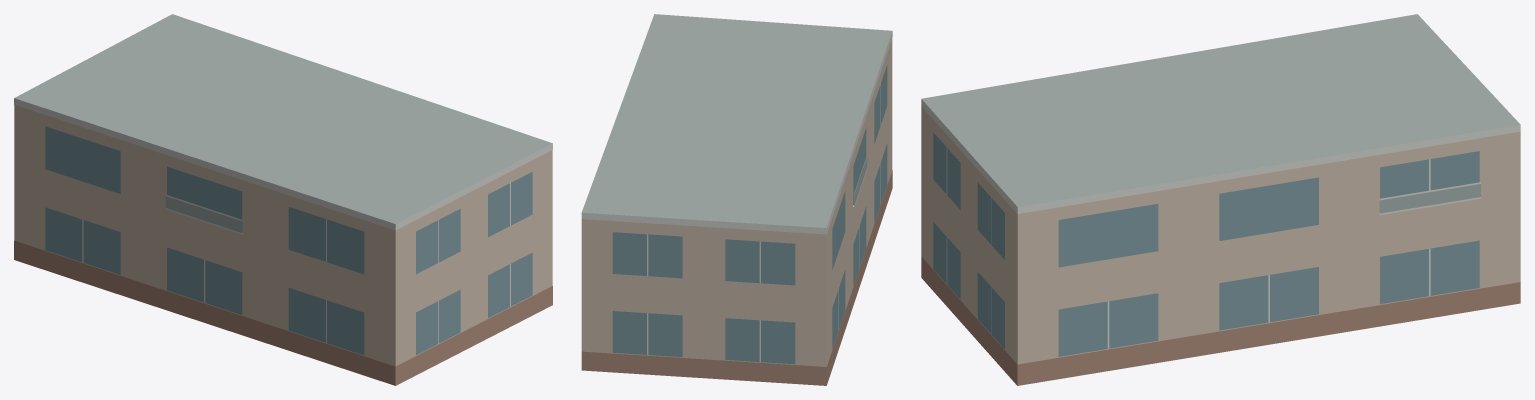
Rendered from survey-upis-32941652.glb.
3 views of the same model, side by side, from view 1: azimuth 30°, elevation 25°; view 2: azimuth 150°, elevation 25°; view 3: azimuth 270°, elevation 25° (orthographic). The views are drawn at different scales.
Visible parts, largest first — view 1: survey-upis-32941652.tmp; view 2: survey-upis-32941652.tmp; view 3: survey-upis-32941652.tmp.
Part boxes in pixels (left/top/right/bottom): survey-upis-32941652.tmp: left=14, top=14, right=552, bottom=385; survey-upis-32941652.tmp: left=581, top=14, right=892, bottom=385; survey-upis-32941652.tmp: left=921, top=14, right=1520, bottom=385.
Bounding box in the file's own units: 14.13 × 6.1 × 18.54.
